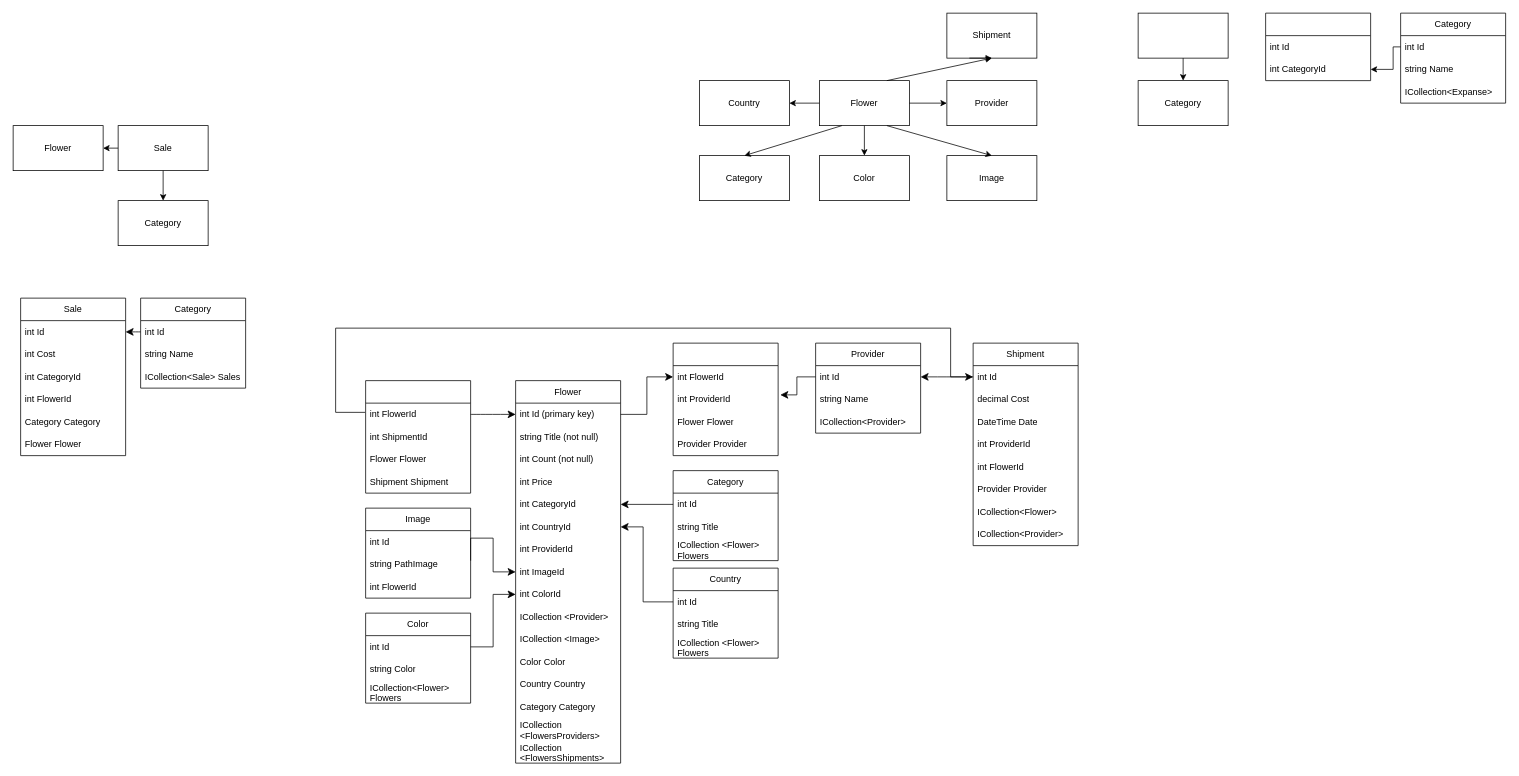
The diagram is 1519 pixels wide and 776 high, and some of its shapes have lost their labels. The shapes that lost their labels are listed below. From the top down, each one's box as (x1, y1, x2, y2) in pixels, then its label:
(1137, 12, 1228, 58): Expanse (Расход)
(1265, 12, 1371, 81): Expanse
(672, 342, 778, 456): FlowerProwider
(365, 380, 471, 493): FlowerShipment
